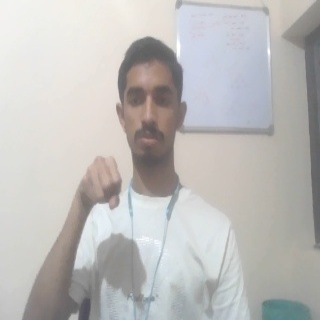Face: (118, 36, 190, 158)
Yes: (77, 157, 123, 212)
